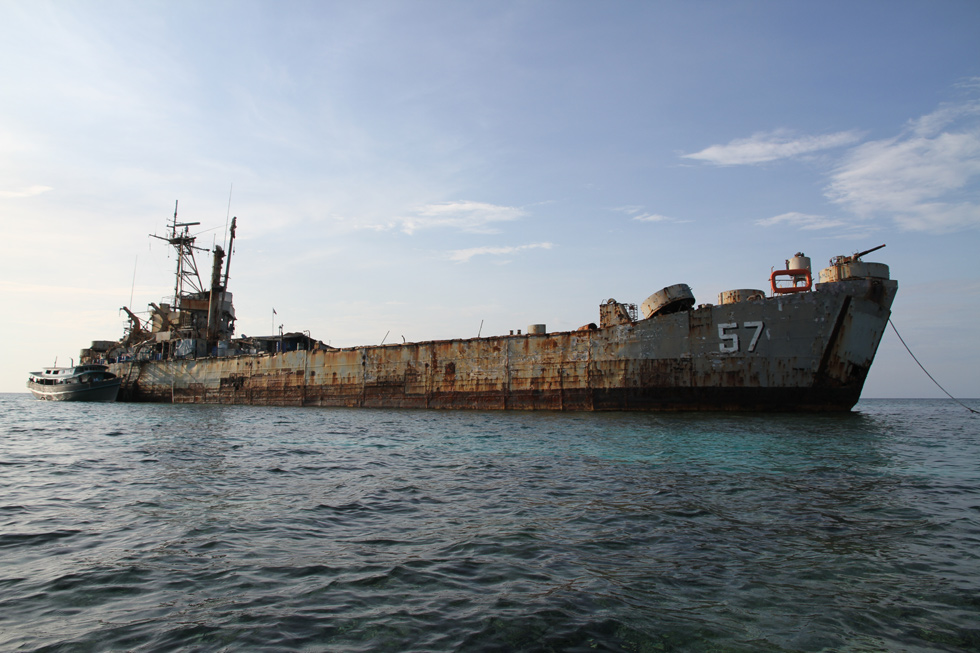rust: (245, 358, 629, 409)
